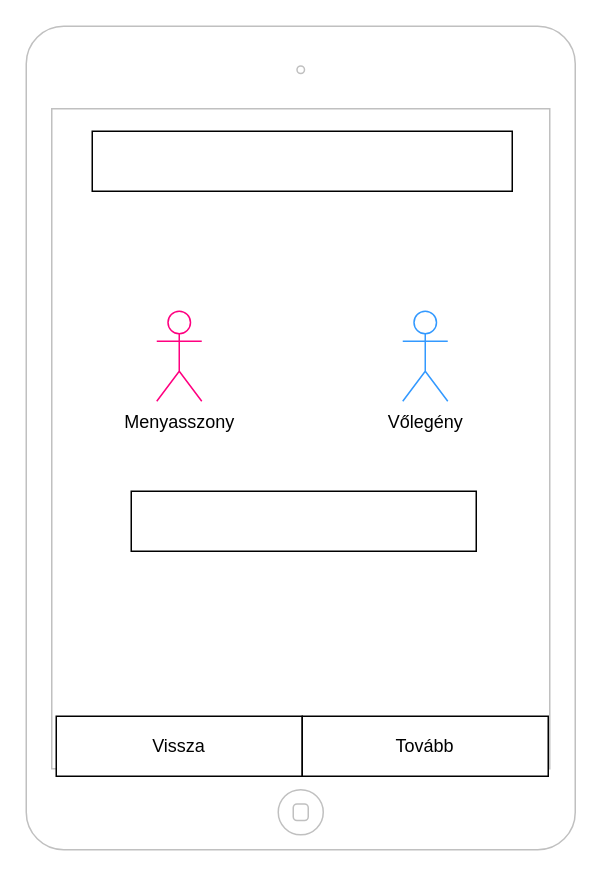
Image size: 602x876. Some labels were removed from this diagram. The shapes that lost their labels are listed below. From the top down, each one's centre as x and y in pixels, then its label:
[301,160]: Válassz...
[303,520]: Név
